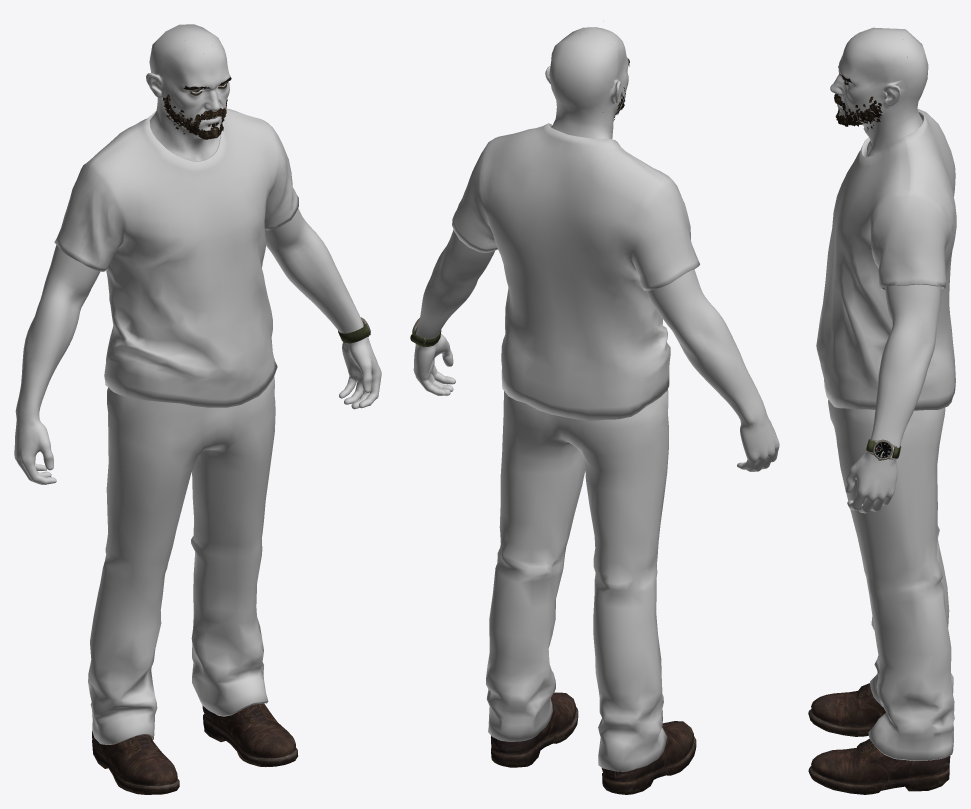
Rendered from diedperson.FBX.
The picture shows the model from 3 angles, left to right: view 1: azimuth 30°, elevation 25°; view 2: azimuth 150°, elevation 25°; view 3: azimuth 270°, elevation 25°; orthographic projection.
Parts seen in each view (by area): view 1: mesh11, mesh8, mesh9, mesh5, mesh7, Mesh1; view 2: mesh11, mesh8, mesh9, mesh5, mesh7; view 3: mesh11, mesh8, mesh9, mesh5, mesh7, Mesh1, mesh10.
Part boxes in pixels (x1=…): mesh11: x1=54, y1=108, x2=298, y2=407; mesh8: x1=88, y1=377, x2=275, y2=744; mesh9: x1=14, y1=208, x2=381, y2=484; mesh5: x1=146, y1=24, x2=229, y2=161; mesh7: x1=92, y1=703, x2=297, y2=794; Mesh1: x1=163, y1=76, x2=231, y2=139; mesh11: x1=452, y1=123, x2=699, y2=420; mesh8: x1=486, y1=390, x2=668, y2=771; mesh9: x1=413, y1=230, x2=779, y2=471; mesh5: x1=545, y1=27, x2=628, y2=139; mesh7: x1=491, y1=692, x2=696, y2=794; mesh11: x1=816, y1=109, x2=956, y2=410; mesh8: x1=828, y1=399, x2=954, y2=760; mesh9: x1=845, y1=284, x2=941, y2=513; mesh5: x1=830, y1=27, x2=928, y2=156; mesh7: x1=808, y1=683, x2=950, y2=794; Mesh1: x1=834, y1=66, x2=882, y2=130; mesh10: x1=866, y1=439, x2=901, y2=460.
Bounding box in the file's own units: 94.22 × 185 × 33.85.
